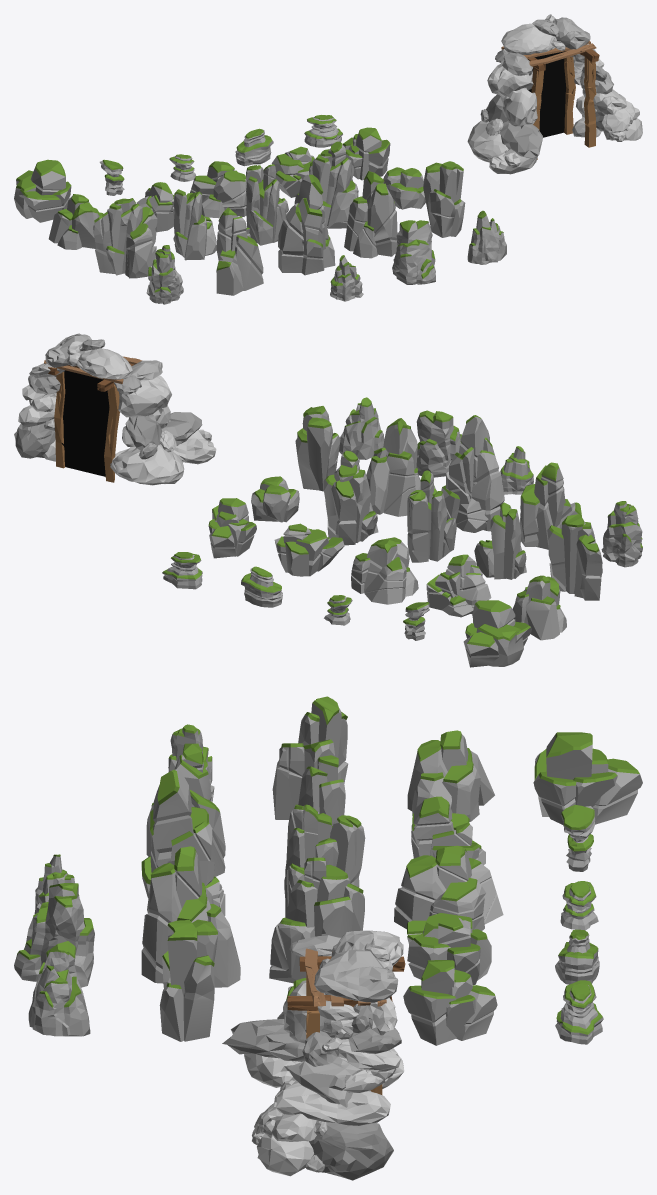
File: che3.fbx
3 views of the same model, one above another, from view 1: azimuth 30°, elevation 25°; view 2: azimuth 150°, elevation 25°; view 3: azimuth 270°, elevation 25° (orthographic). The views are drawn at different scales.
Visible parts, largest first — view 1: _931_0_931, _2442_0_2442, _2445_0_2445, _2444_0_2444, _2446_0_2446, _928_0_928, _2440_0_2440, _2415_0_2415, _2439_0_2439, _2443_0_2443, _2449_0_2449, _2441_0_2441 (+14 smaller); view 2: _931_0_931, _2445_0_2445, _929_0_929, _2444_0_2444, _2442_0_2442, _2439_0_2439, _2415_0_2415, _2418_0_2418, _2440_0_2440, _2446_0_2446, _2443_0_2443, _2419_0_2419 (+14 smaller); view 3: _931_0_931, _2415_0_2415, _2444_0_2444, _2439_0_2439, _2418_0_2418, _2443_0_2443, _2416_0_2416, _2445_0_2445, _2449_0_2449, _2420_0_2420, _2442_0_2442, _2440_0_2440 (+12 smaller).
Part boxes in pixels (left/top/right/bottom): _931_0_931: left=467, top=14, right=642, bottom=174; _2442_0_2442: left=93, top=198, right=157, bottom=278; _2445_0_2445: left=278, top=174, right=335, bottom=275; _2444_0_2444: left=344, top=171, right=397, bottom=258; _2446_0_2446: left=216, top=207, right=263, bottom=295; _928_0_928: left=523, top=41, right=599, bottom=159; _2440_0_2440: left=246, top=164, right=288, bottom=245; _2415_0_2415: left=14, top=159, right=71, bottom=222; _2439_0_2439: left=309, top=141, right=358, bottom=228; _2443_0_2443: left=423, top=161, right=465, bottom=237; _2449_0_2449: left=392, top=220, right=435, bottom=284; _2441_0_2441: left=173, top=189, right=216, bottom=260; _931_0_931: left=14, top=333, right=216, bottom=485; _2445_0_2445: left=441, top=415, right=504, bottom=532; _929_0_929: left=61, top=368, right=109, bottom=476; _2444_0_2444: left=366, top=418, right=420, bottom=516; _2442_0_2442: left=547, top=514, right=602, bottom=600; _2439_0_2439: left=323, top=450, right=378, bottom=545; _2415_0_2415: left=463, top=600, right=531, bottom=667; _2418_0_2418: left=351, top=537, right=418, bottom=604; _2440_0_2440: left=407, top=470, right=456, bottom=562; _2446_0_2446: left=520, top=462, right=581, bottom=549; _2443_0_2443: left=295, top=406, right=340, bottom=491; _2419_0_2419: left=426, top=554, right=491, bottom=617; _931_0_931: left=222, top=930, right=404, bottom=1180; _2415_0_2415: left=533, top=732, right=642, bottom=824; _2444_0_2444: left=141, top=846, right=240, bottom=987; _2439_0_2439: left=269, top=857, right=364, bottom=983; _2418_0_2418: left=394, top=845, right=503, bottom=930; _2443_0_2443: left=159, top=919, right=217, bottom=1041; _2416_0_2416: left=403, top=960, right=497, bottom=1045; _2445_0_2445: left=141, top=769, right=225, bottom=915; _2449_0_2449: left=14, top=883, right=94, bottom=987; _2420_0_2420: left=407, top=730, right=494, bottom=821; _2442_0_2442: left=272, top=696, right=348, bottom=819; _2440_0_2440: left=284, top=804, right=365, bottom=917.
Size of the model in its own units: 1183 by 283 by 750.
Materials: 1 (1 with a texture image).
